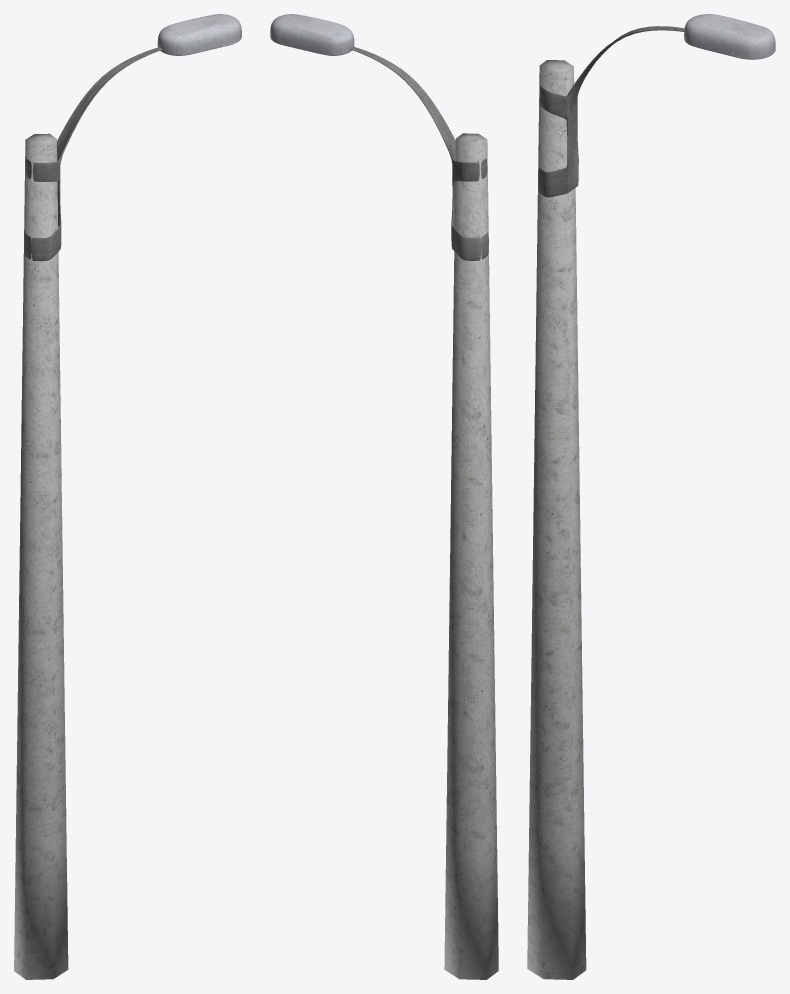
Rendered from lamppost.glb.
3 views of the same model, side by side, from view 1: azimuth 30°, elevation 25°; view 2: azimuth 150°, elevation 25°; view 3: azimuth 330°, elevation 25° (orthographic). The views are drawn at different scales.
Visible parts, largest first — view 1: Circle_0, Circle.001_1, Circle.002_2; view 2: Circle_0, Circle.001_1, Circle.002_2; view 3: Circle_0, Circle.001_1, Circle.002_2.
Boxes of the visible parts, x1,y1,x2,y2 form: Circle_0: (14,133,68,979); Circle.001_1: (24,47,162,261); Circle.002_2: (157,14,241,55); Circle_0: (444,133,498,979); Circle.001_1: (350,46,488,260); Circle.002_2: (270,14,354,55); Circle_0: (527,60,586,979); Circle.001_1: (538,26,684,197); Circle.002_2: (684,14,775,59).
Size of the model in its own units: 1.38 by 5.46 by 0.2656.
Materials: 4 (3 with a texture image).
